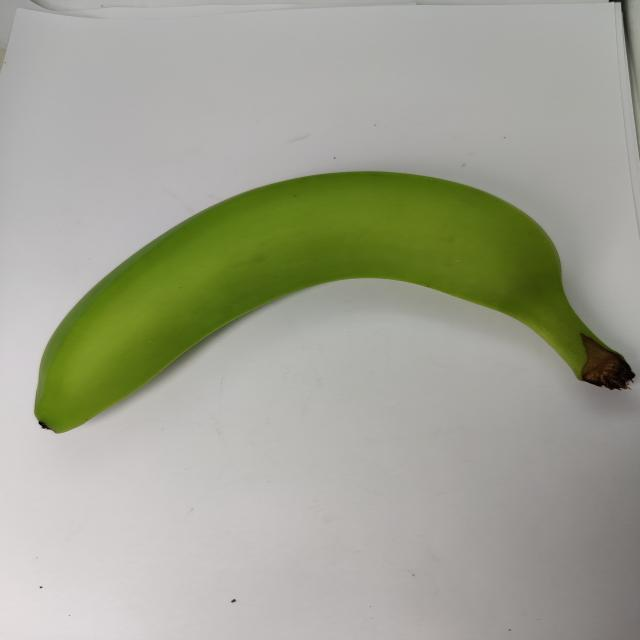raw: (13, 150, 640, 458)
